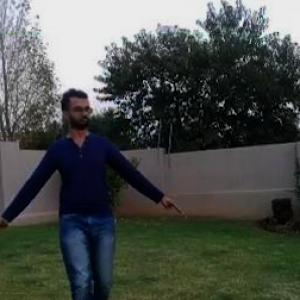land: (2, 88, 178, 299)
